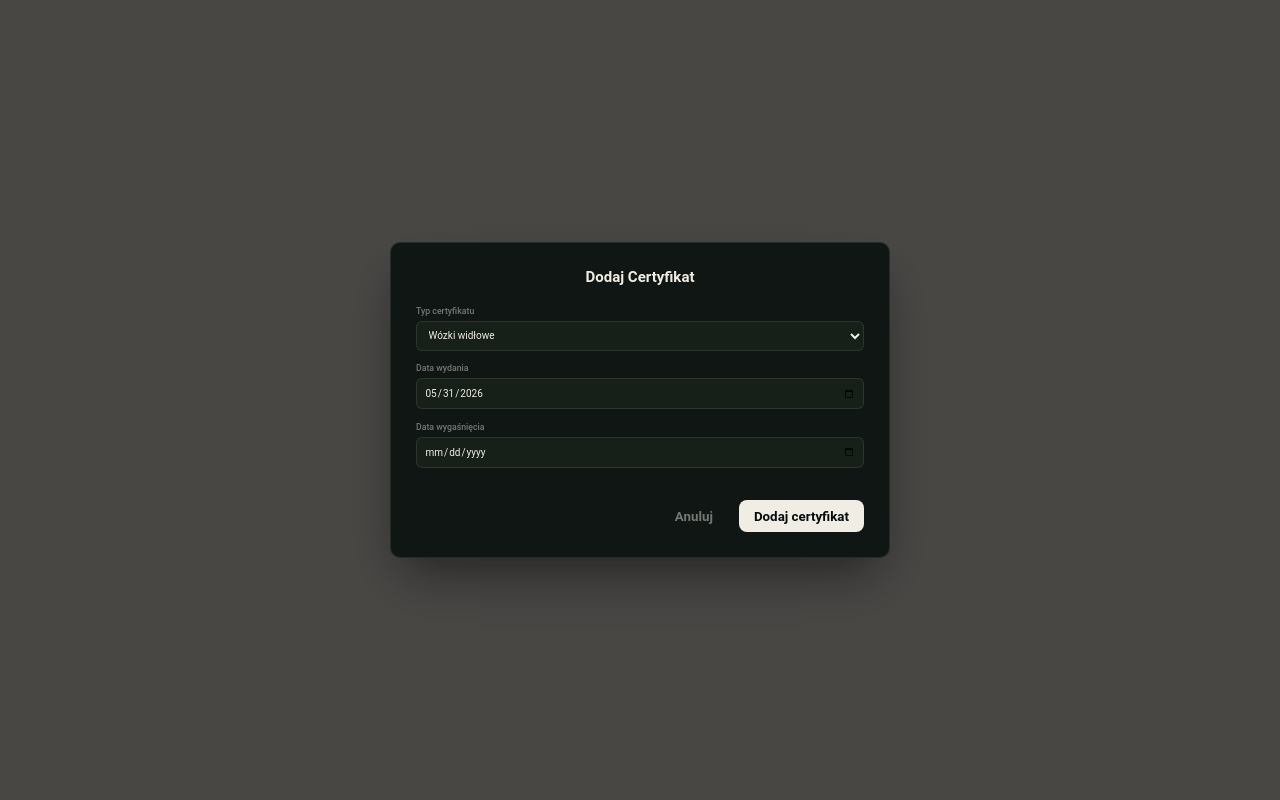
Test: AddCertificationModal › wyświetla stan ładowania "Dodawanie..."
The image size is (1280, 800).
Type "2024-01-01" into the date field labelled "Data wydania" at [640, 394], box 416,378 -> 864,409
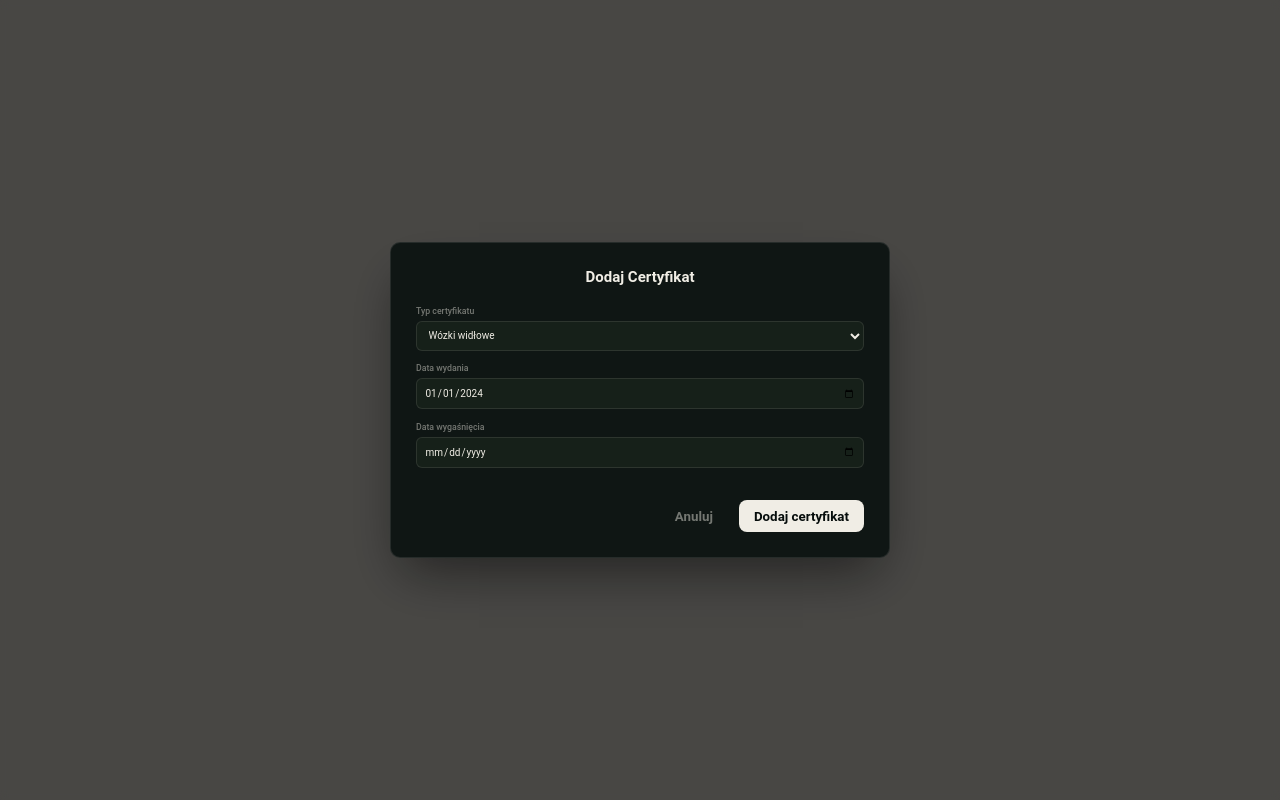
Type "2025-01-01" into the date field labelled "Data wygaśnięcia" at [640, 452], box 416,437 -> 864,468
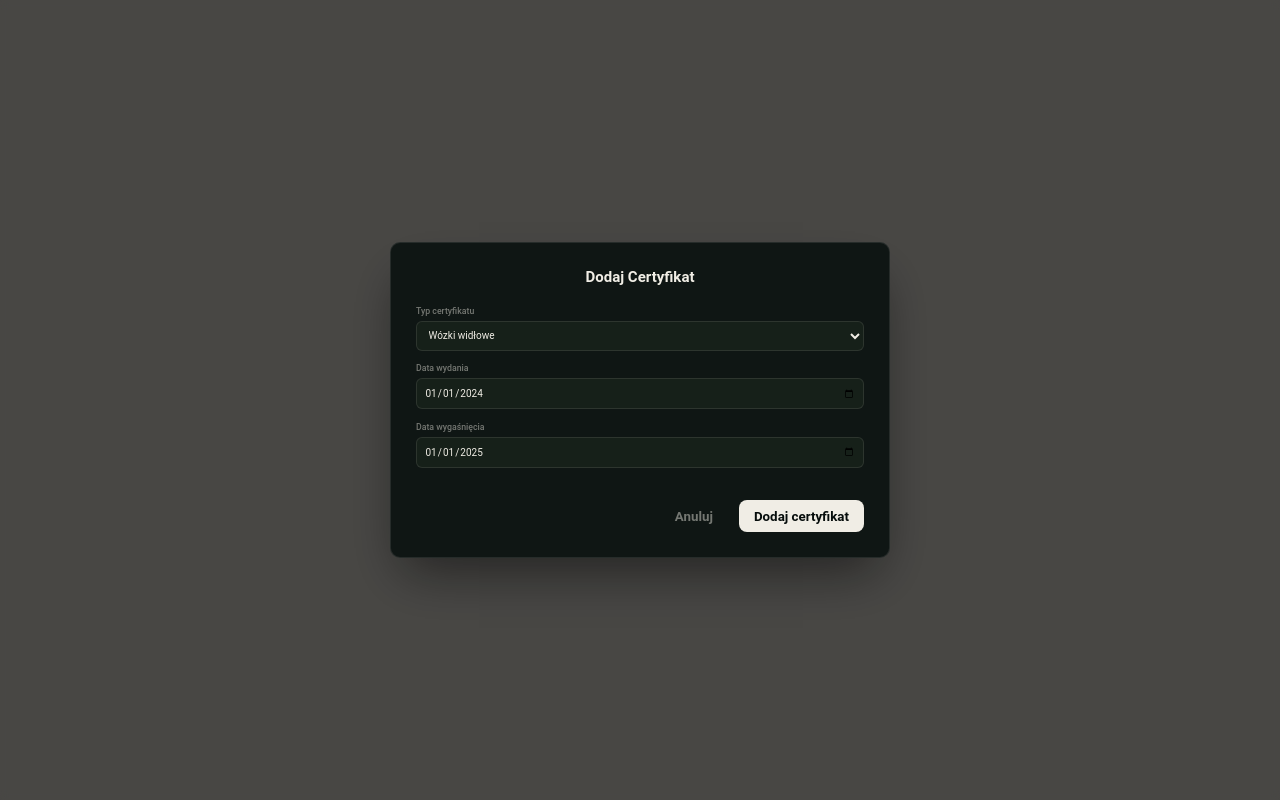
Click the button "Dodaj certyfikat" at [801, 516], box 739,500 -> 864,532
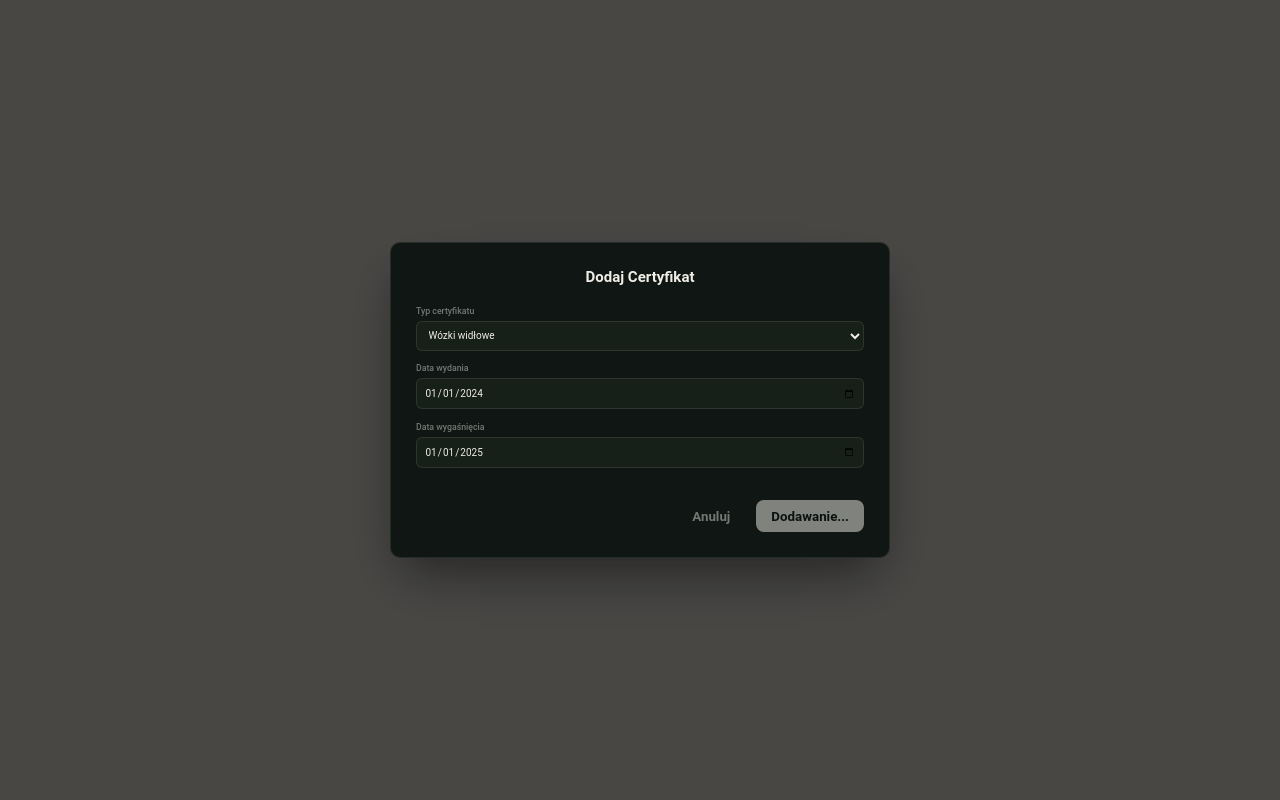
Now the button "Dodawanie..." is shown, box 756,500 -> 864,532
